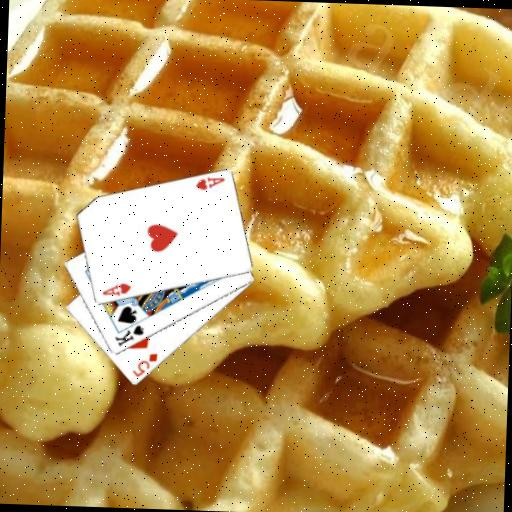5D: (129, 349, 159, 379)
AH: (192, 174, 226, 192), (99, 279, 132, 297)
KS: (112, 321, 145, 349)
